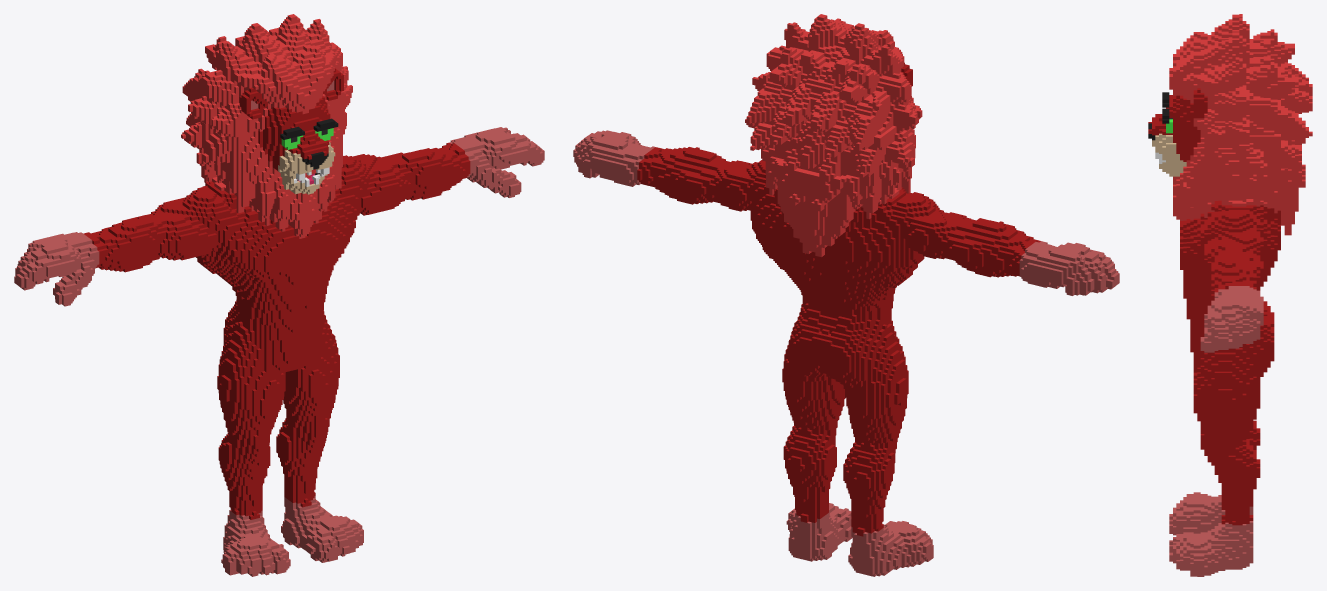
The model's file is 448-DKEjX3wn.glb.
3 views of the same model, side by side, from view 1: azimuth 30°, elevation 25°; view 2: azimuth 150°, elevation 25°; view 3: azimuth 270°, elevation 25° (orthographic). The views are drawn at different scales.
Parts seen in each view (by area): view 1: open; view 2: open; view 3: open.
Part boxes in pixels (x1,y1,x2,y2): open: (14,14,544,576); open: (573,14,1119,576); open: (1148,14,1312,576).
Size of the model in its own units: 17.2 by 16.5 by 4.7.
Materials: 4 (4 with a texture image).
